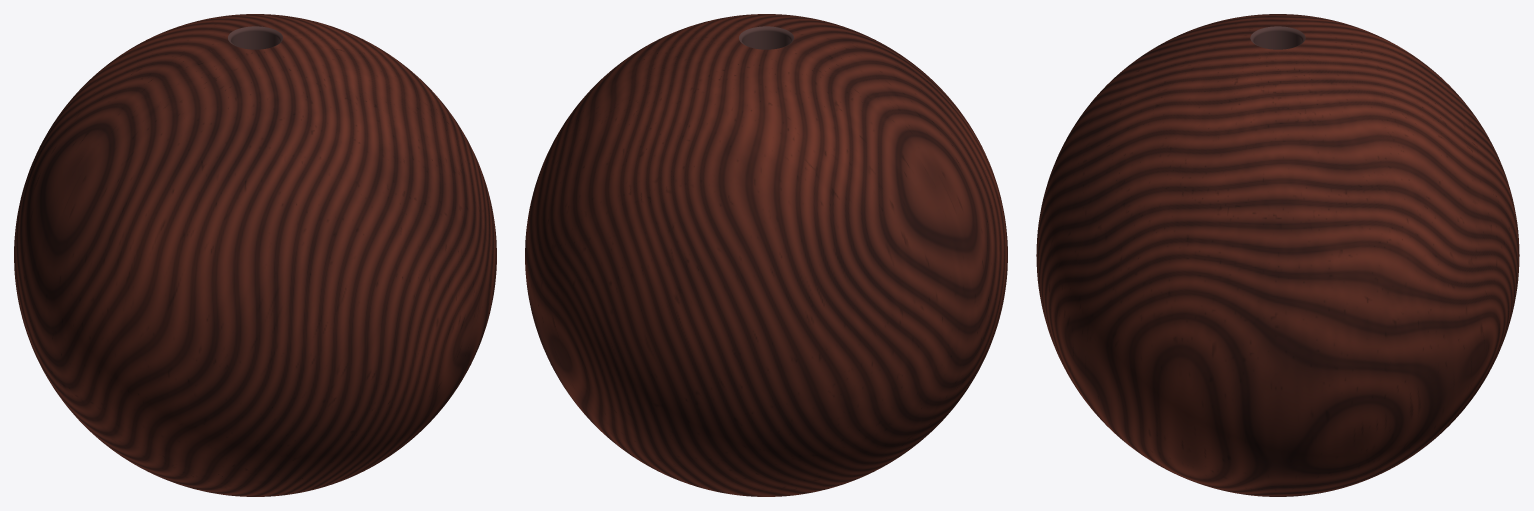
The model's file is wood-red-rosewood-10mm.glb.
The picture shows the model from 3 angles, left to right: view 1: azimuth 30°, elevation 25°; view 2: azimuth 150°, elevation 25°; view 3: azimuth 270°, elevation 25°; orthographic projection.
Parts seen in each view (by area): view 1: red-rosewood; view 2: red-rosewood; view 3: red-rosewood.
Boxes of the visible parts, x1,y1,x2,y2 form: red-rosewood: (14,14,496,496); red-rosewood: (525,14,1007,496); red-rosewood: (1036,14,1519,496).
Bounding box in the file's own units: 0.01 × 0.00993 × 0.01.
Materials: 2 (1 with a texture image).
